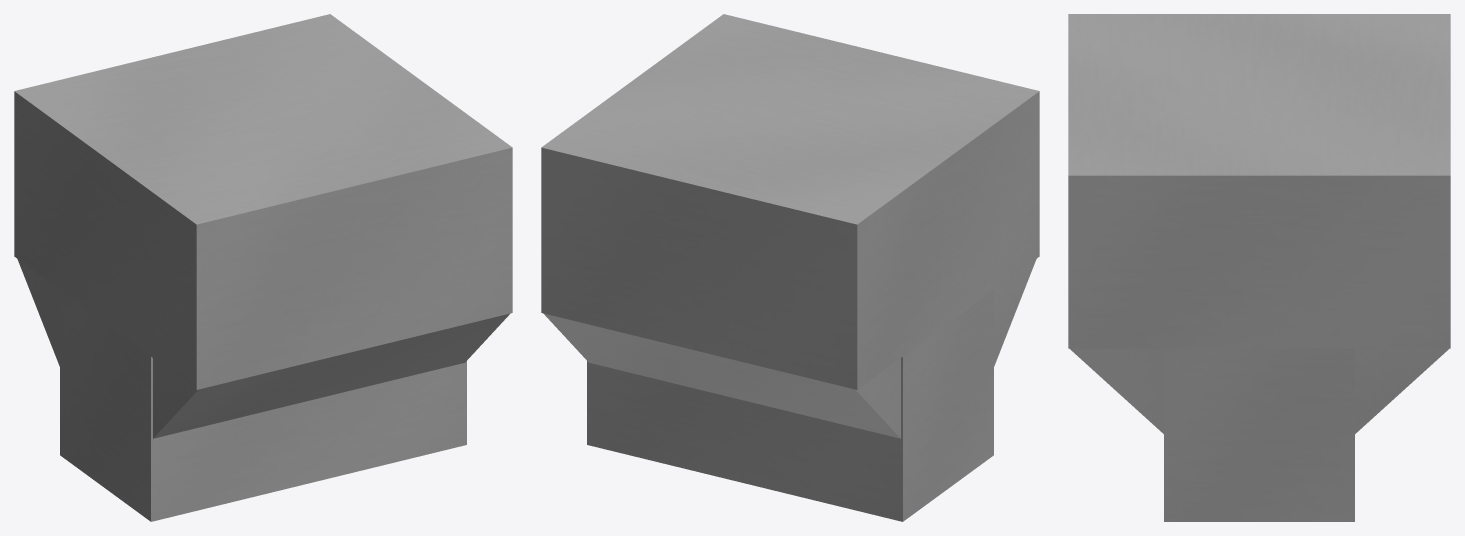
Rendered from pillar_head_base.obj.
3 views of the same model, side by side, from view 1: azimuth 30°, elevation 25°; view 2: azimuth 150°, elevation 25°; view 3: azimuth 270°, elevation 25° (orthographic). The views are drawn at different scales.
Visible parts, largest first — view 1: 0, 2, 3, 1; view 2: 0, 2, 1, 3; view 3: 0, 2, 1, 3.
Part boxes in pixels (left/top/right/bottom): 0: left=14, top=14, right=512, bottom=389; 2: left=60, top=290, right=466, bottom=521; 3: left=153, top=313, right=510, bottom=438; 1: left=17, top=259, right=59, bottom=366; 0: left=541, top=14, right=1039, bottom=389; 2: left=587, top=290, right=993, bottom=521; 1: left=543, top=313, right=900, bottom=438; 3: left=994, top=259, right=1036, bottom=366; 0: left=1068, top=14, right=1450, bottom=348; 2: left=1164, top=348, right=1354, bottom=521; 1: left=1355, top=348, right=1448, bottom=433; 3: left=1070, top=348, right=1163, bottom=433.
Bounding box in the file's own units: 16 × 16 × 16.
